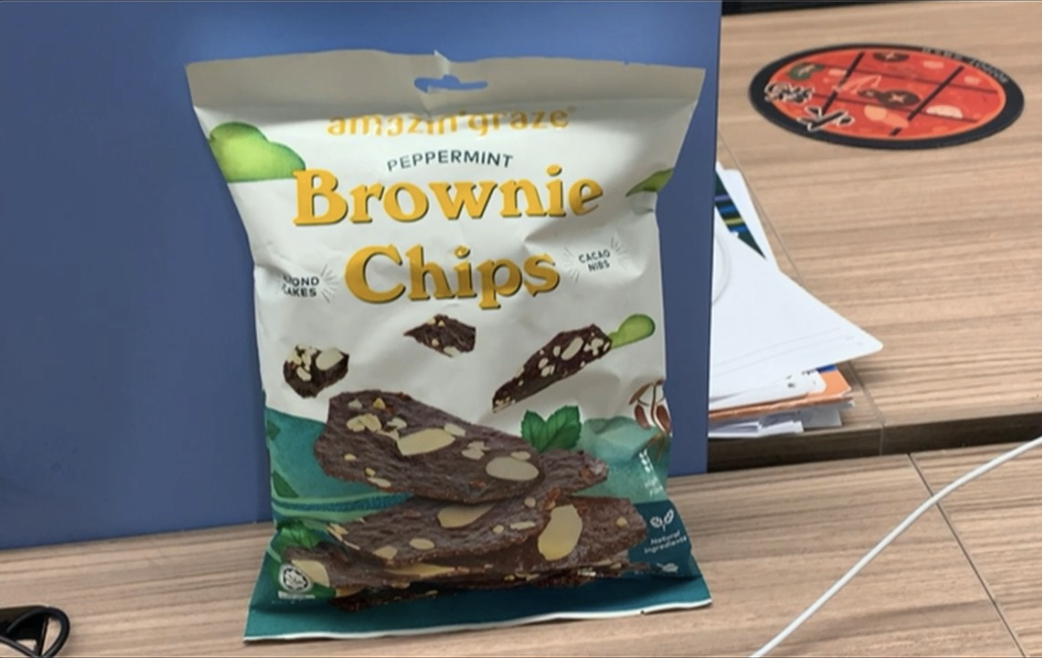crackers_100g-199g: (260, 111, 660, 605)
